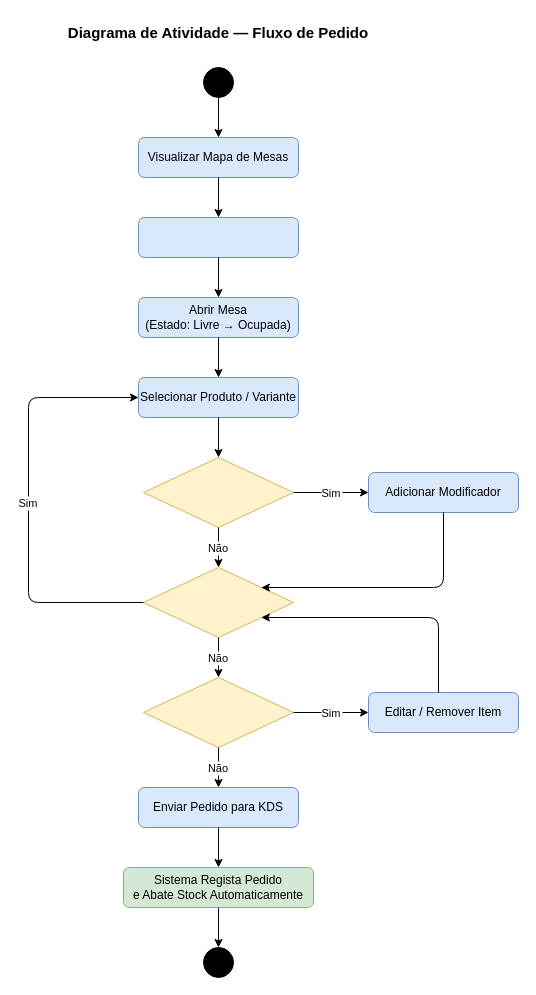
This 536x995 diagram has some shape labels left out. Each missing label, with the centre of its shape:
"Adicionar Modificador?" goes at [218,492].
"Cancelar ou Editar Item?" goes at [218,712].
"Mais Itens para Adicionar?" goes at [218,602].
"Selecionar Mesa Livre" goes at [218,237].
